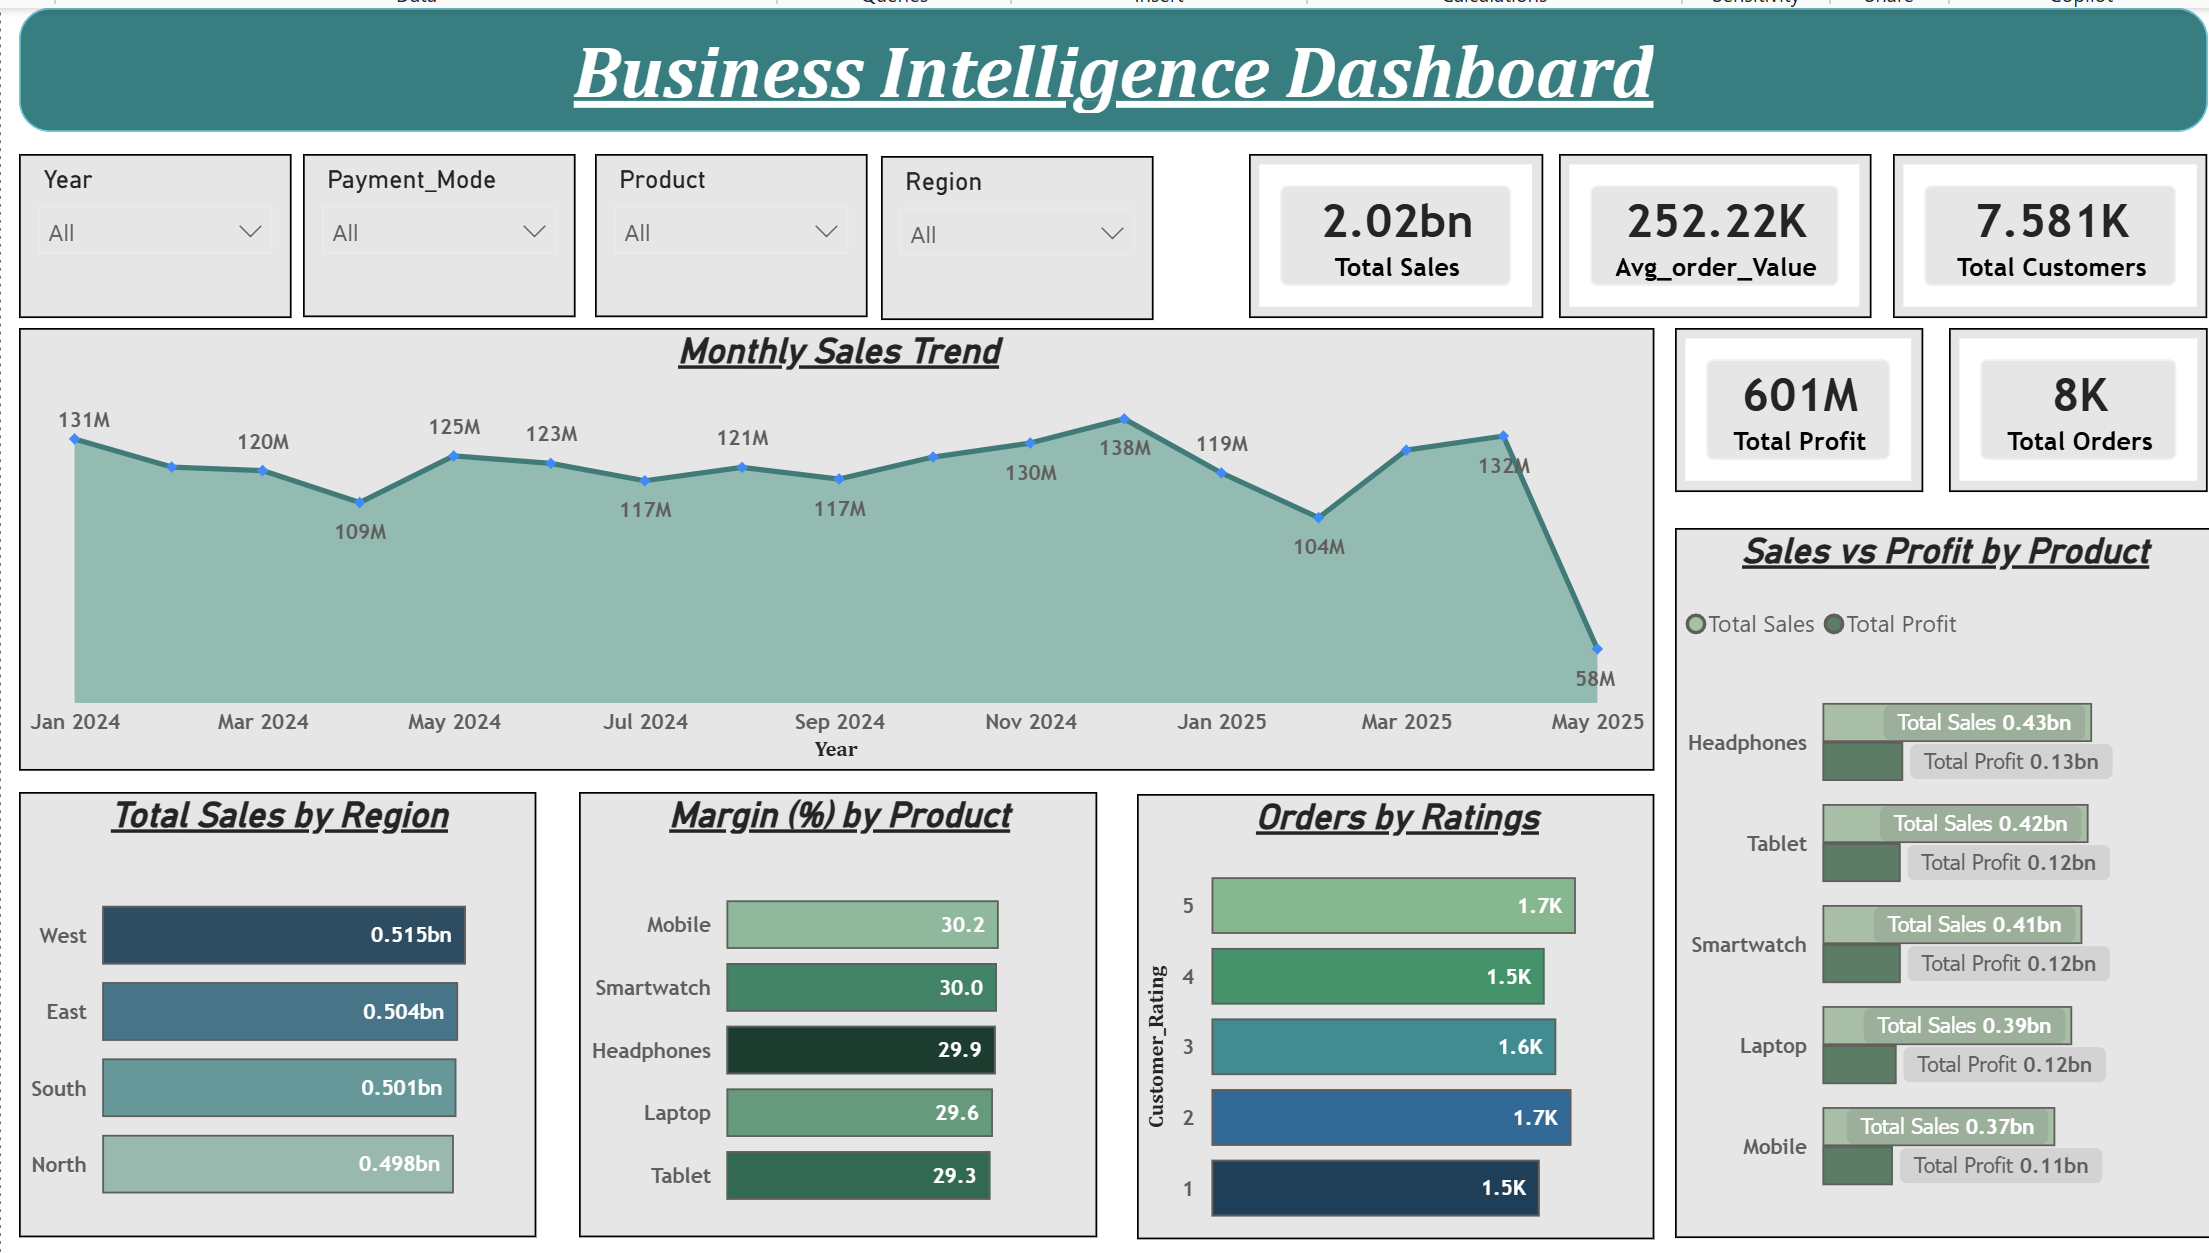

The page's visual inventory and layout, read from the dashboard file:
{"tool":"powerbi","page":{"name":"L3 | T2","canvas":[1280,720],"ordinal":7},"visuals":[{"type":"shape","box":[10.2,0,1260.9,71.4],"z":0},{"type":"slicer","fields":{"Values":["Sales_data.Region"]},"box":[507.4,85.4,157,94.3],"z":1000},{"type":"slicer","fields":{"Values":["Sales_data.Product"]},"box":[341.7,84.1,157,94],"z":2000},{"type":"slicer","fields":{"Values":["Sales_data.Payment_Mode"]},"box":[174.1,84.1,157,94],"z":3000},{"type":"slicer","fields":{"Values":["Sales_data.Year"]},"box":[10.2,84.1,157,94.3],"z":4000},{"type":"lineChart","title":"Monthly Sales Trend ","fields":{"Category":["Sales_data.Month Start.Variation.Date Hierarchy.Year","Sales_data.Month Start.Variation.Date Hierarchy.Month"],"Y":["Measures Table 1.Total Sales"]},"box":[10.2,184.9,942.2,255],"z":5000},{"type":"clusteredBarChart","title":"Total Sales by Region","fields":{"Category":["Sales_data.Region"],"Y":["Measures Table 1.Total Sales"]},"box":[10.2,451.3,298,256.3],"z":6000},{"type":"clusteredBarChart","title":"Sales vs Profit by Product","fields":{"Category":["Sales_data.Product"],"Y":["Measures Table 1.Total Sales","Measures Table 1.Total Profit"]},"box":[963.8,299.6,309.8,409.2],"z":7000},{"type":"clusteredBarChart","title":"Margin (%) by Product","fields":{"Category":["Sales_data.Product"],"Y":["Measures Table 1.Margin %"]},"box":[332.7,451.3,298.3,256.3],"z":8000},{"type":"clusteredBarChart","title":"Orders by Ratings","fields":{"Category":["Sales_data.Customer_Rating"],"Y":["Measures Table 1.Total Orders"]},"box":[654,452.6,298,256.3],"z":9000},{"type":"cardVisual","fields":{"Data":["Measures Table 2.Total Customers"]},"box":[1090,84.1,181,94.3],"z":10000},{"type":"cardVisual","fields":{"Data":["Measures Table 2.Avg_order_Value"]},"box":[897.5,84.1,179.8,94.3],"z":11000},{"type":"cardVisual","fields":{"Data":["Sales_data.Total Sales"]},"box":[719,84.1,169.6,94.3],"z":12000},{"type":"cardVisual","fields":{"Data":["Measures Table 1.Total Orders"]},"box":[1121.9,184.9,149.2,94.3],"z":13000},{"type":"cardVisual","fields":{"Data":["Measures Table 1.Total Profit"]},"box":[963.8,184.9,142.8,94.3],"z":14000}]}

Visuals, with their boxes on the page's 1280x720 design canvas (x1, y1, x2, y2). These are canvas units, not pixel positions in the 2209x1253 screenshot, which may show the page scaled, cropped or inside an application window:
shape: 10:0:1271:71
slicer - Sales_data.Region: 507:85:664:180
slicer - Sales_data.Product: 342:84:499:178
slicer - Sales_data.Payment_Mode: 174:84:331:178
slicer - Sales_data.Year: 10:84:167:178
"Monthly Sales Trend " lineChart: 10:185:952:440
"Total Sales by Region" clusteredBarChart: 10:451:308:708
"Sales vs Profit by Product" clusteredBarChart: 964:300:1274:709
"Margin (%) by Product" clusteredBarChart: 333:451:631:708
"Orders by Ratings" clusteredBarChart: 654:453:952:709
cardVisual - Measures Table 2.Total Customers: 1090:84:1271:178
cardVisual - Measures Table 2.Avg_order_Value: 898:84:1077:178
cardVisual - Sales_data.Total Sales: 719:84:889:178
cardVisual - Measures Table 1.Total Orders: 1122:185:1271:279
cardVisual - Measures Table 1.Total Profit: 964:185:1107:279
